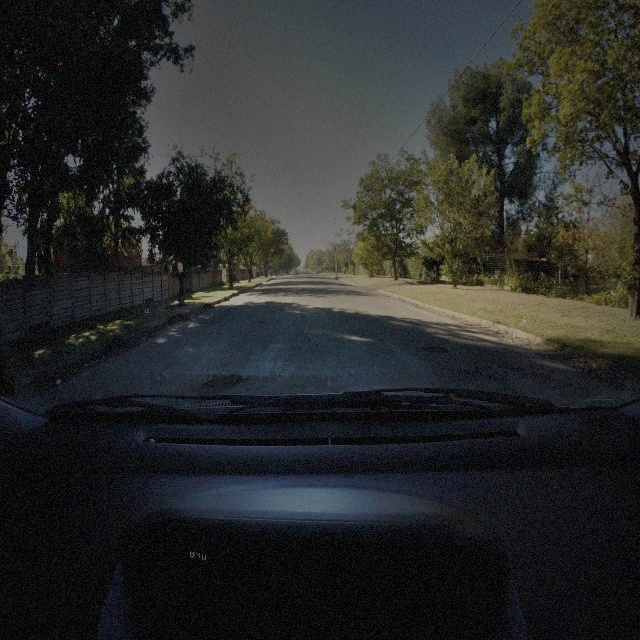pothole: (194, 370, 250, 396), (419, 340, 448, 354)
